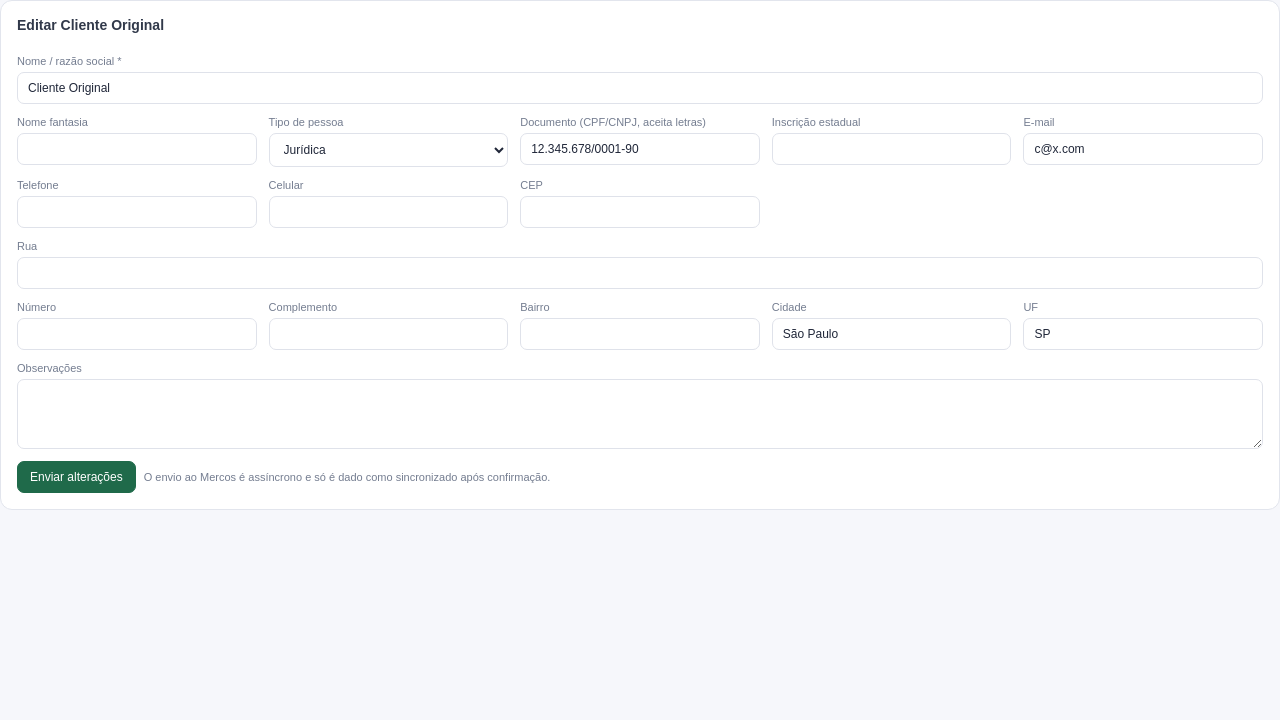
falha preserva o formulário e o reenvio idêntico reutiliza a mesma chave
Replace the text in the field labelled "Cidade" with "Niterói" at (892, 334), box [772,318,1011,350]
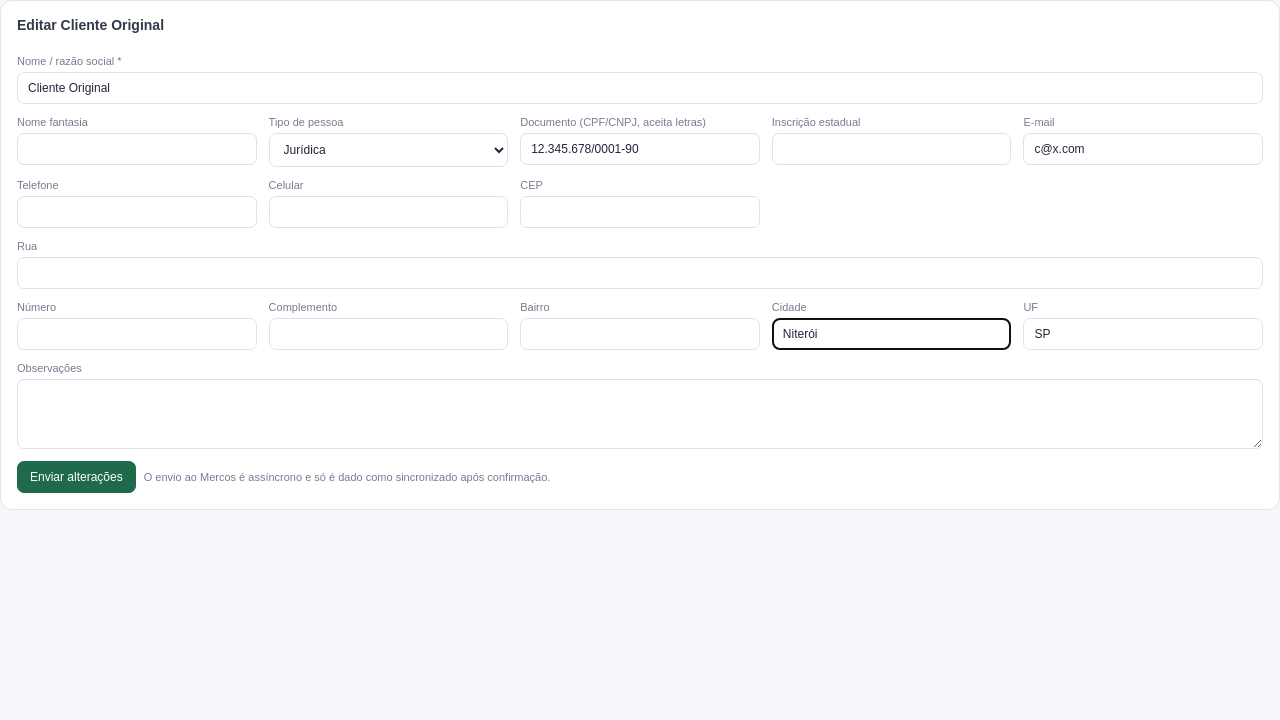
Click the button "Enviar alterações" at (76, 477), box [17,461,136,493]
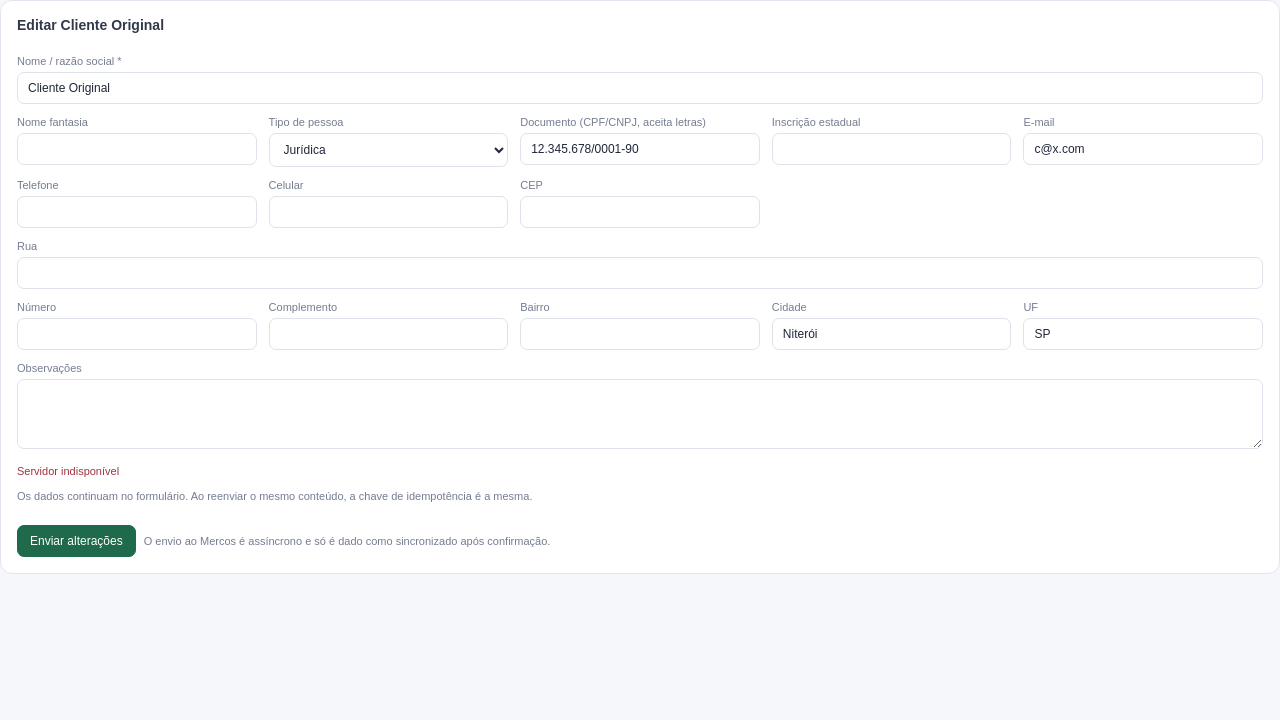
Check: the text "Servidor indisponível" is shown, box [17,465,119,477]
Click the button "Enviar alterações" at (76, 541), box [17,525,136,557]
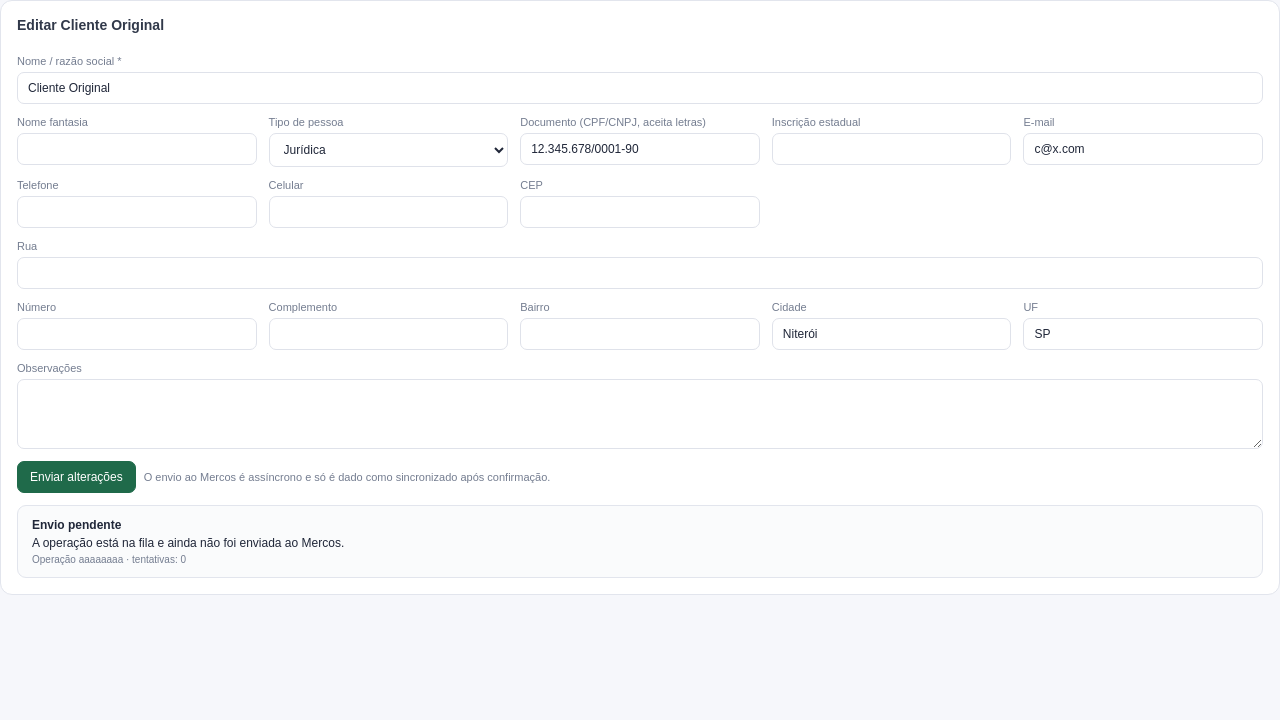
Check: the text "Envio pendente" is shown, box [32,518,121,532]
